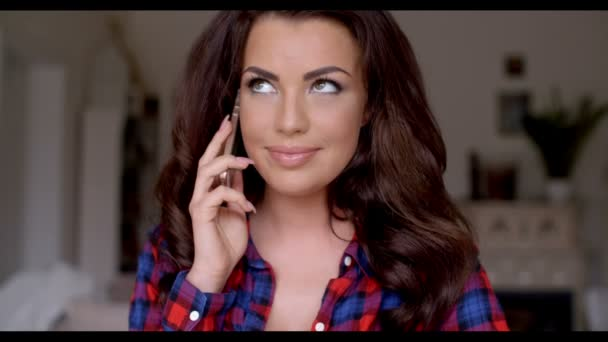phone: (194, 90, 257, 226)
talk: (194, 67, 365, 275)
